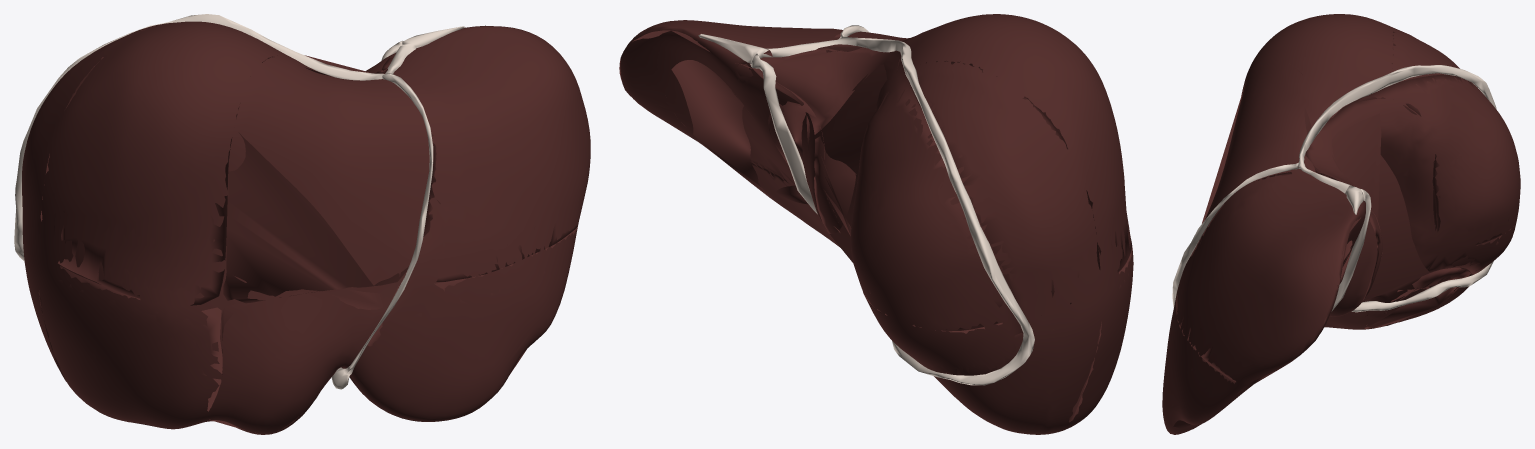
File: vh_f_liver-40.glb
3 views of the same model, side by side, from view 1: azimuth 30°, elevation 25°; view 2: azimuth 150°, elevation 25°; view 3: azimuth 270°, elevation 25° (orthographic). The views are drawn at different scales.
Parts seen in each view (by area): view 1: VH_F_capsule_of_the_liver, VH_F_left_superomedial_segment1, VH_F_right_anterosuperior_segment, VH_F_right_anteroinferior_segment, VH_F_left_superomedial_segment, VH_F_coronary_ligament_of_liver, VH_F_left_anterolateral_segment, VH_F_falciform_ligament, VH_F_left_inferomedial_segment; view 2: VH_F_capsule_of_the_liver, VH_F_bare_area_of_liver, VH_F_coronary_ligament_of_liver, VH_F_right_posterosuperior_segment, VH_F_gastric_impression_of_liver, VH_F_left_superomedial_segment, VH_F_ligamentum_venosum, VH_F_right_anterosuperior_segment, VH_F_right_posteroinferior_segment, VH_F_left_anterolateral_segment, VH_F_esophageal_impression_of_liver, VH_F_diaphragmatic_surface_of_liver (+2 smaller); view 3: VH_F_capsule_of_the_liver, VH_F_bare_area_of_liver, VH_F_coronary_ligament_of_liver, VH_F_left_superomedial_segment, VH_F_right_posterosuperior_segment, VH_F_falciform_ligament, VH_F_renal_impression_of_liver, VH_F_ligamentum_venosum, VH_F_left_anterolateral_segment, VH_F_left_superomedial_segment1, VH_F_suprarenal_impression_of_liver, VH_F_diaphragmatic_surface_of_liver (+1 smaller).
Part boxes in pixels (x1,y1,x2,y2): VH_F_capsule_of_the_liver: (22, 21, 590, 434); VH_F_left_superomedial_segment1: (223, 57, 433, 303); VH_F_right_anterosuperior_segment: (40, 24, 272, 305); VH_F_right_anteroinferior_segment: (39, 265, 222, 426); VH_F_left_superomedial_segment: (382, 29, 588, 281); VH_F_coronary_ligament_of_liver: (14, 14, 413, 261); VH_F_left_anterolateral_segment: (342, 226, 577, 419); VH_F_falciform_ligament: (344, 73, 433, 374); VH_F_left_inferomedial_segment: (209, 289, 384, 433); VH_F_capsule_of_the_liver: (619, 14, 1133, 434); VH_F_bare_area_of_liver: (749, 47, 1023, 375); VH_F_coronary_ligament_of_liver: (767, 36, 1034, 385); VH_F_right_posterosuperior_segment: (851, 61, 1100, 331); VH_F_gastric_impression_of_liver: (671, 60, 812, 227); VH_F_left_superomedial_segment: (622, 22, 840, 183); VH_F_ligamentum_venosum: (751, 53, 817, 214); VH_F_right_anterosuperior_segment: (896, 16, 1132, 272); VH_F_right_posteroinferior_segment: (867, 300, 1101, 433); VH_F_left_anterolateral_segment: (741, 162, 838, 245); VH_F_esophageal_impression_of_liver: (768, 101, 809, 168); VH_F_diaphragmatic_surface_of_liver: (619, 30, 1055, 434); VH_F_capsule_of_the_liver: (1162, 14, 1473, 434); VH_F_bare_area_of_liver: (1305, 74, 1520, 299); VH_F_coronary_ligament_of_liver: (1298, 65, 1496, 312); VH_F_left_superomedial_segment: (1176, 172, 1365, 381); VH_F_right_posterosuperior_segment: (1393, 31, 1518, 245); VH_F_falciform_ligament: (1172, 162, 1298, 307); VH_F_renal_impression_of_liver: (1364, 283, 1459, 328); VH_F_ligamentum_venosum: (1331, 189, 1371, 311); VH_F_left_anterolateral_segment: (1163, 296, 1235, 427); VH_F_left_superomedial_segment1: (1202, 74, 1320, 223); VH_F_suprarenal_impression_of_liver: (1412, 267, 1471, 288); VH_F_diaphragmatic_surface_of_liver: (1170, 210, 1458, 433).
Bounding box in the file's own units: 0.2471 × 0.17 × 0.1663.
